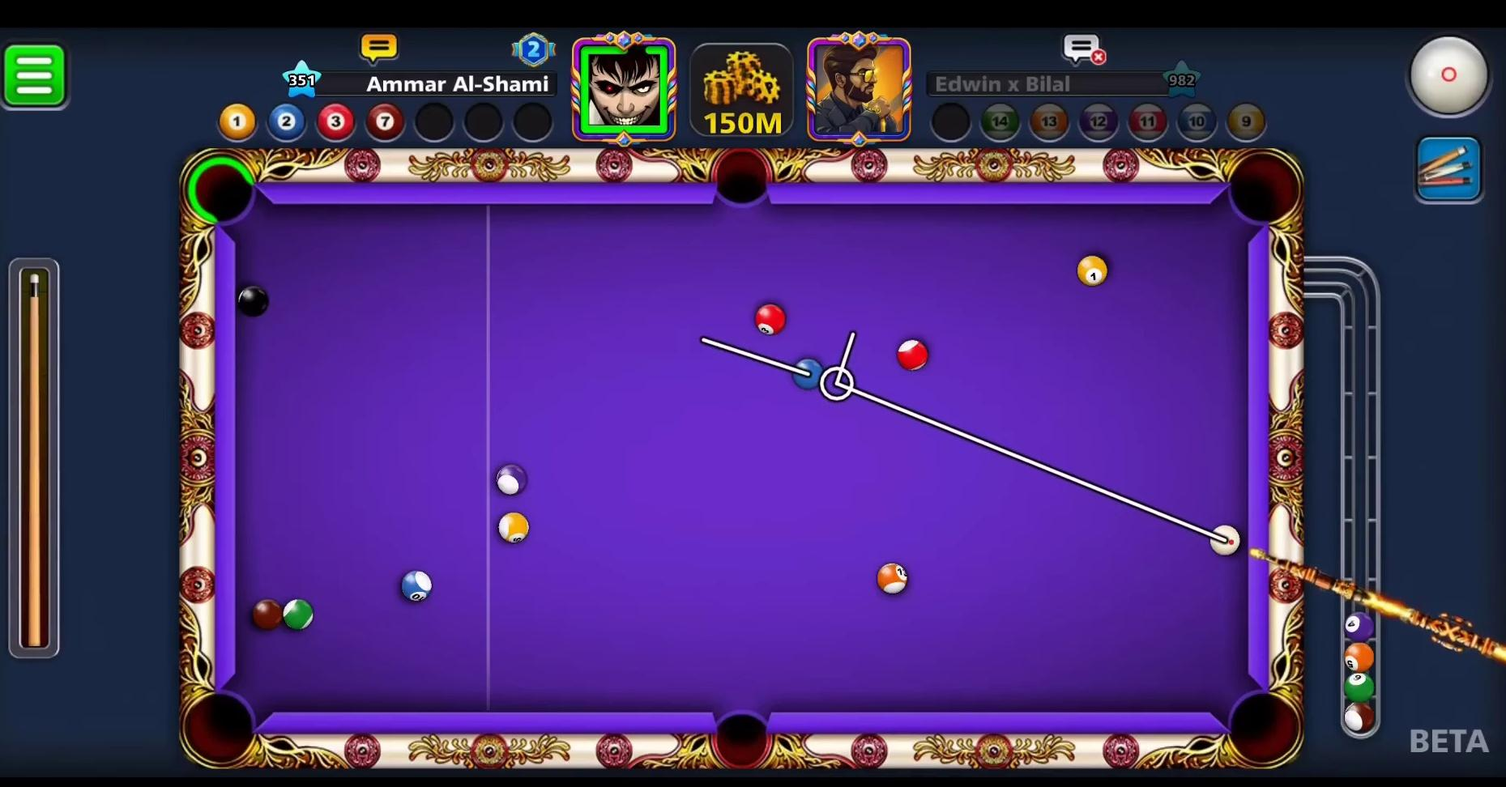Ball: (488, 500, 539, 553), (393, 562, 444, 612), (226, 282, 278, 323), (486, 457, 535, 500), (243, 591, 288, 636), (872, 557, 913, 601), (892, 334, 935, 374), (749, 300, 791, 338), (1073, 253, 1115, 289)
Force: (0, 259, 65, 660)
Guideline: (700, 331, 1240, 555)
Hole: (1215, 680, 1308, 775), (175, 141, 267, 236), (1219, 141, 1304, 233), (175, 687, 267, 772), (699, 141, 785, 222), (703, 697, 783, 776)
Play_Area: (233, 202, 1241, 715)
Spin: (1402, 28, 1504, 130)
White: (1202, 519, 1251, 561)
